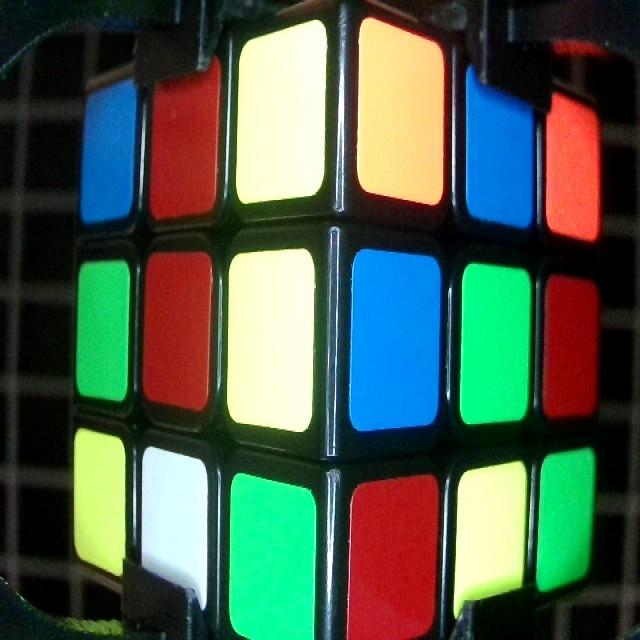b: (348, 242, 439, 428), (466, 63, 536, 224), (77, 74, 136, 218)
g: (229, 472, 315, 640), (460, 265, 530, 423), (79, 261, 131, 400), (544, 452, 592, 594)
o: (358, 17, 441, 206), (549, 86, 602, 244)
r: (349, 472, 437, 640), (150, 59, 222, 211), (148, 255, 210, 407), (544, 278, 598, 418)
w: (143, 444, 208, 605)
y: (229, 249, 311, 431), (239, 21, 324, 193), (459, 467, 527, 618), (73, 425, 127, 577)
